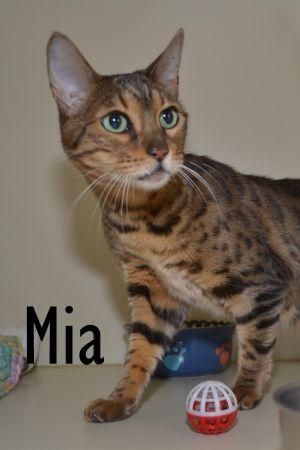bengal: (40, 23, 203, 198)
